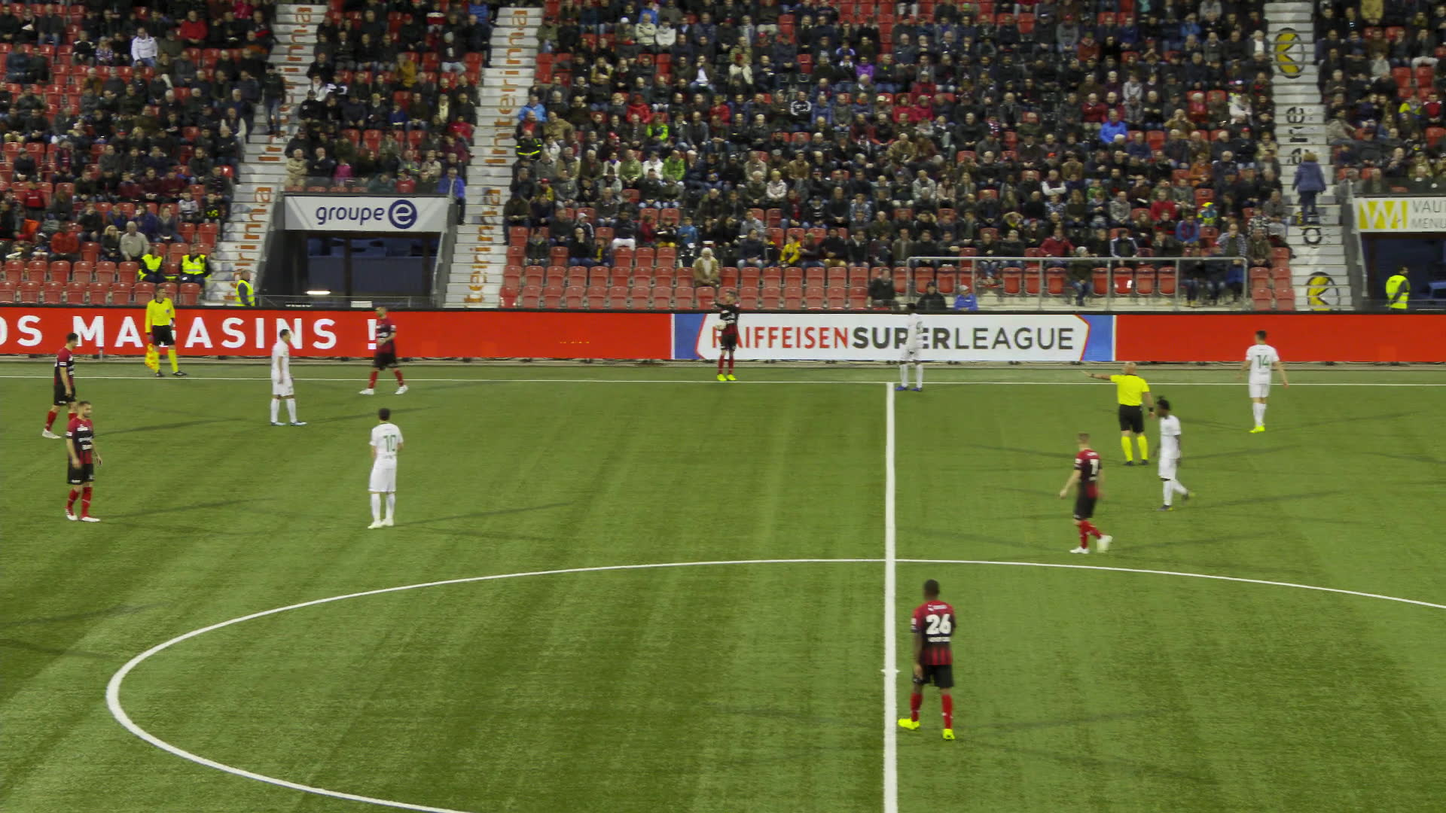ball: (723, 318, 734, 329)
player: (911, 578, 970, 741), (1069, 433, 1126, 557), (1161, 396, 1206, 511), (49, 332, 96, 439), (71, 400, 112, 522), (1252, 327, 1298, 432), (375, 408, 410, 528), (372, 303, 413, 394), (276, 328, 311, 425), (719, 289, 749, 380), (903, 302, 932, 391)
referee: (1090, 361, 1162, 465), (151, 286, 194, 377)
